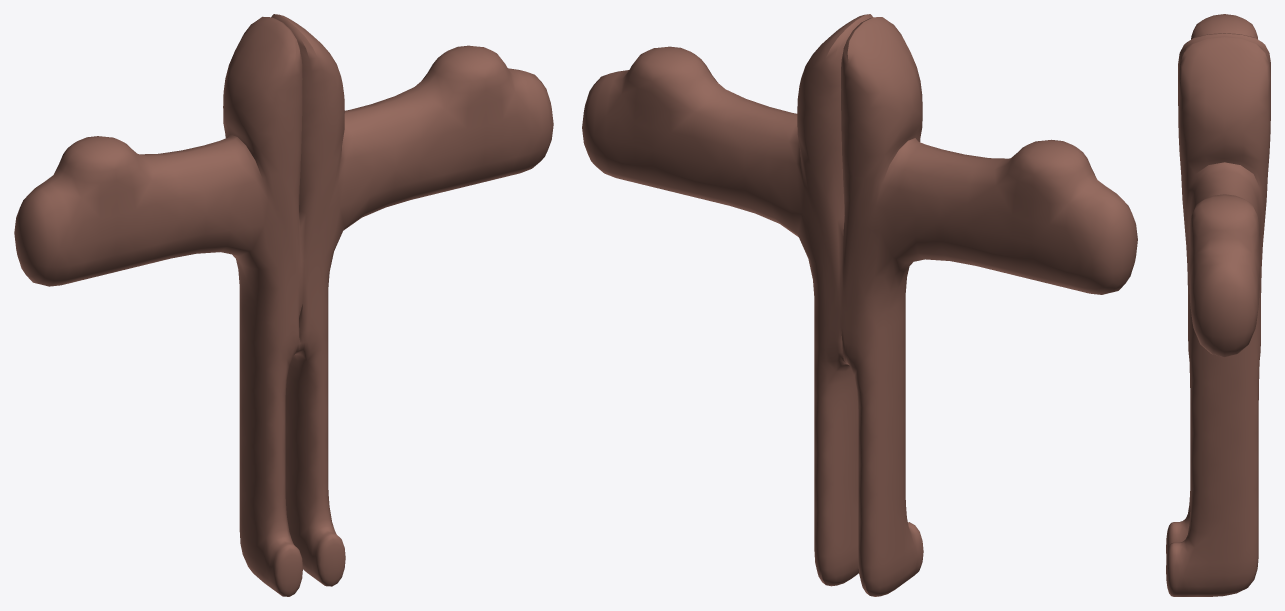
Rendered from Enemie.fbx.
The picture shows the model from 3 angles, left to right: view 1: azimuth 30°, elevation 25°; view 2: azimuth 150°, elevation 25°; view 3: azimuth 270°, elevation 25°; orthographic projection. The views are drawn at different scales.
Parts seen in each view (by area): view 1: Cube; view 2: Cube; view 3: Cube.
Part boxes in pixels (x1,y1,x2,y2): Cube: (14,14,553,596); Cube: (582,14,1137,596); Cube: (1166,14,1270,596).
Size of the model in its own units: 201 by 202 by 34.86.
